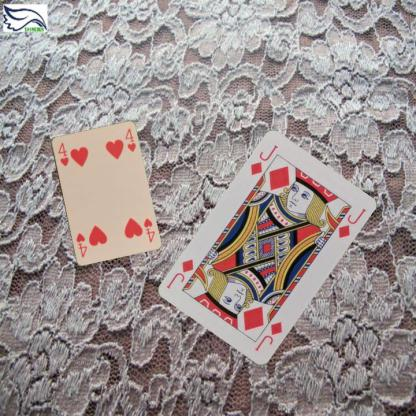4h: (55, 140, 70, 167), (141, 216, 156, 243)
Jd: (252, 320, 284, 353), (248, 143, 279, 177)
